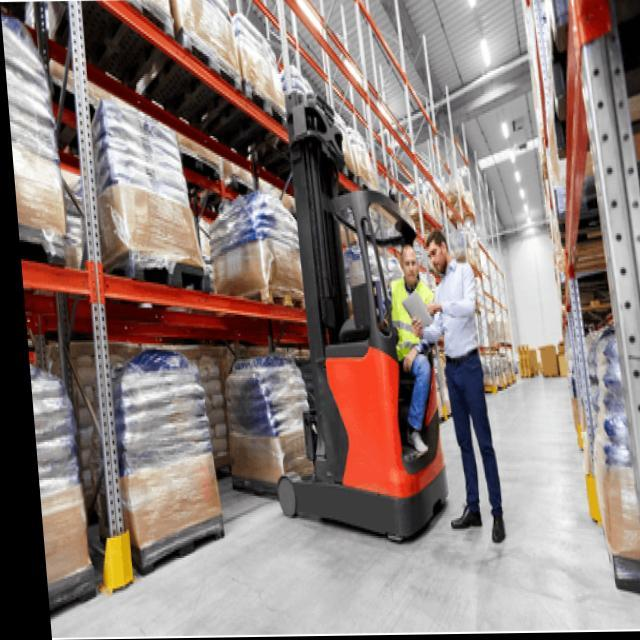vest: (387, 271, 444, 368)
